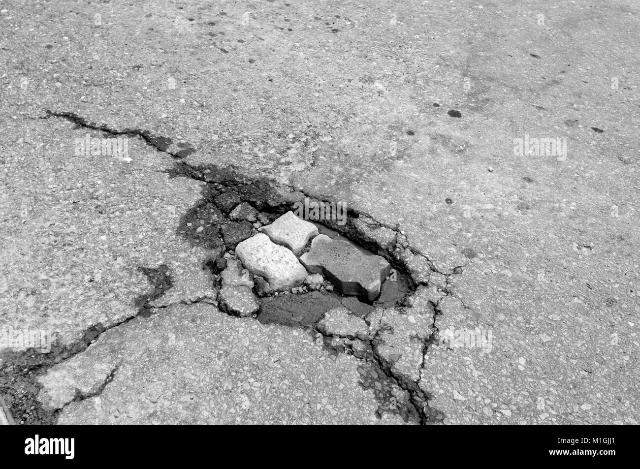Pothole: (212, 196, 430, 328)
